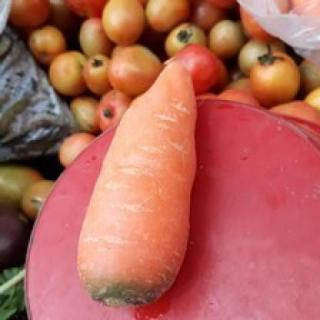Wortel: (76, 60, 198, 307)
